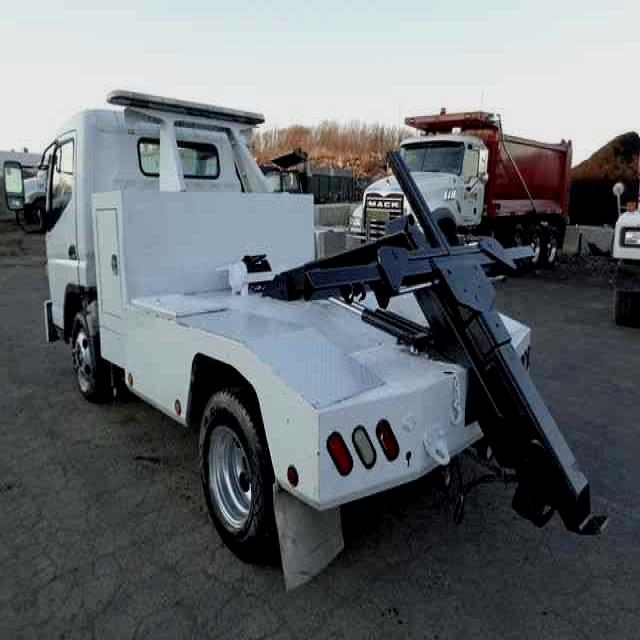truck: (5, 89, 609, 573), (350, 104, 574, 285)
